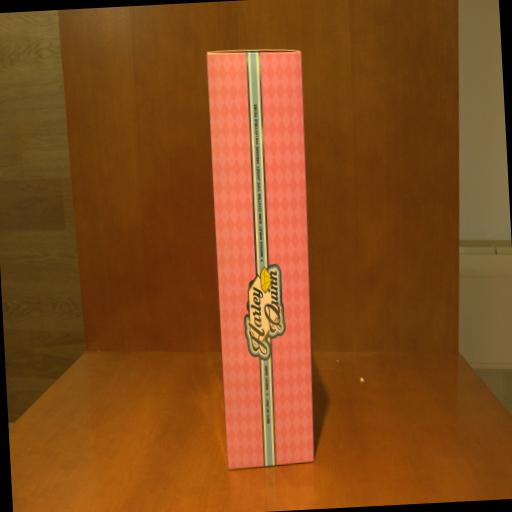Harley: (205, 45, 324, 470)
